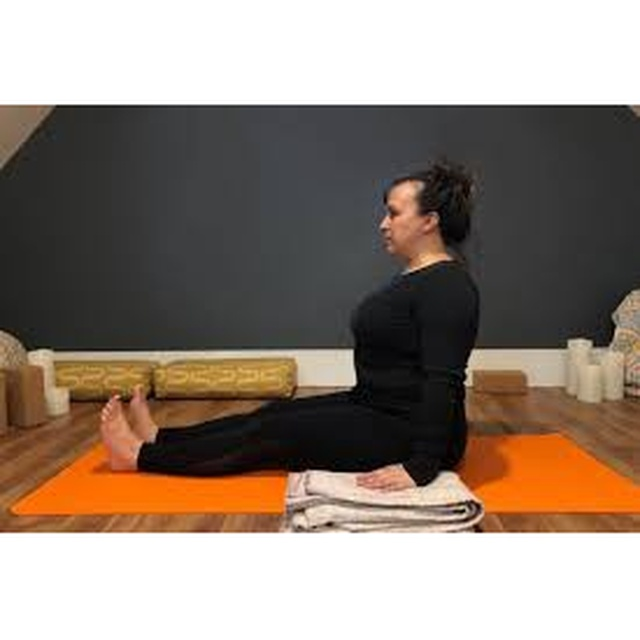Staff_Pose: (98, 154, 481, 489)
